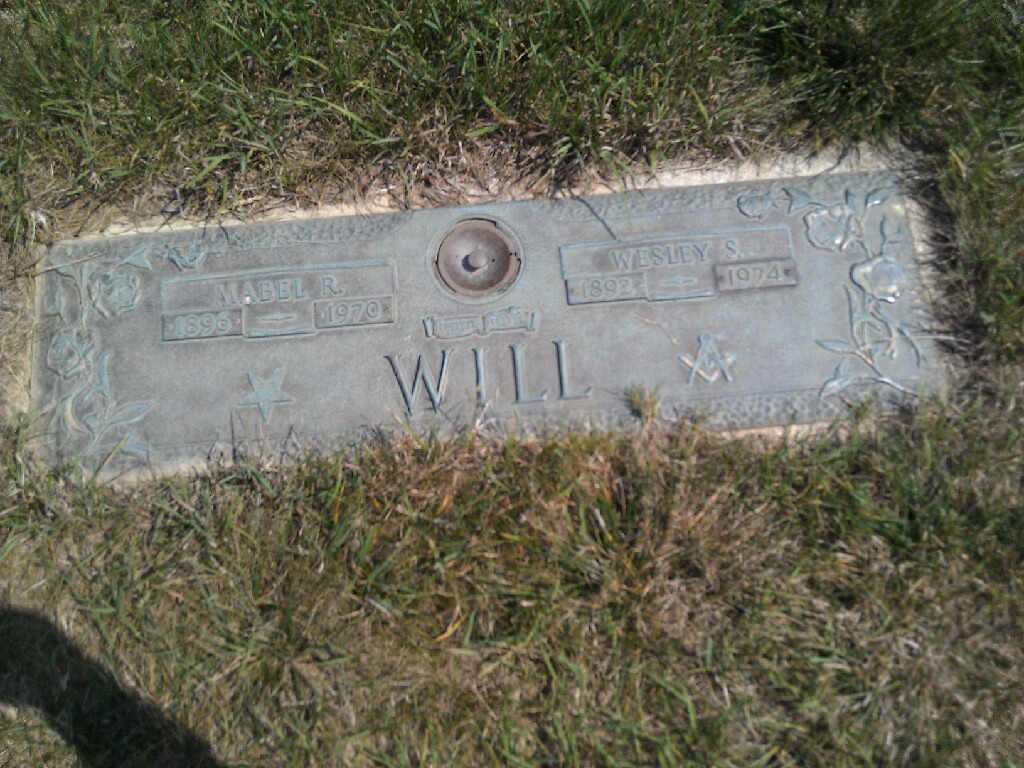flat: (17, 172, 960, 471)
